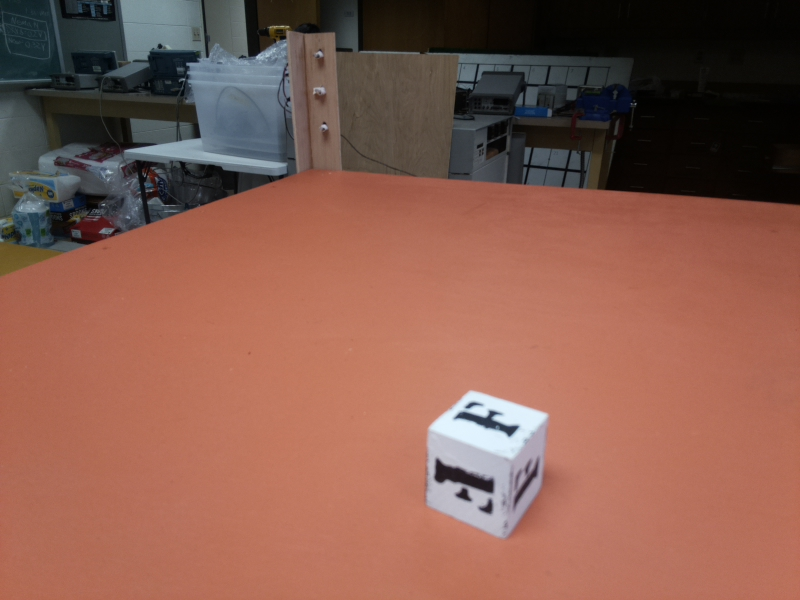blockF: (424, 392, 558, 528)
corner: (288, 31, 348, 169)
